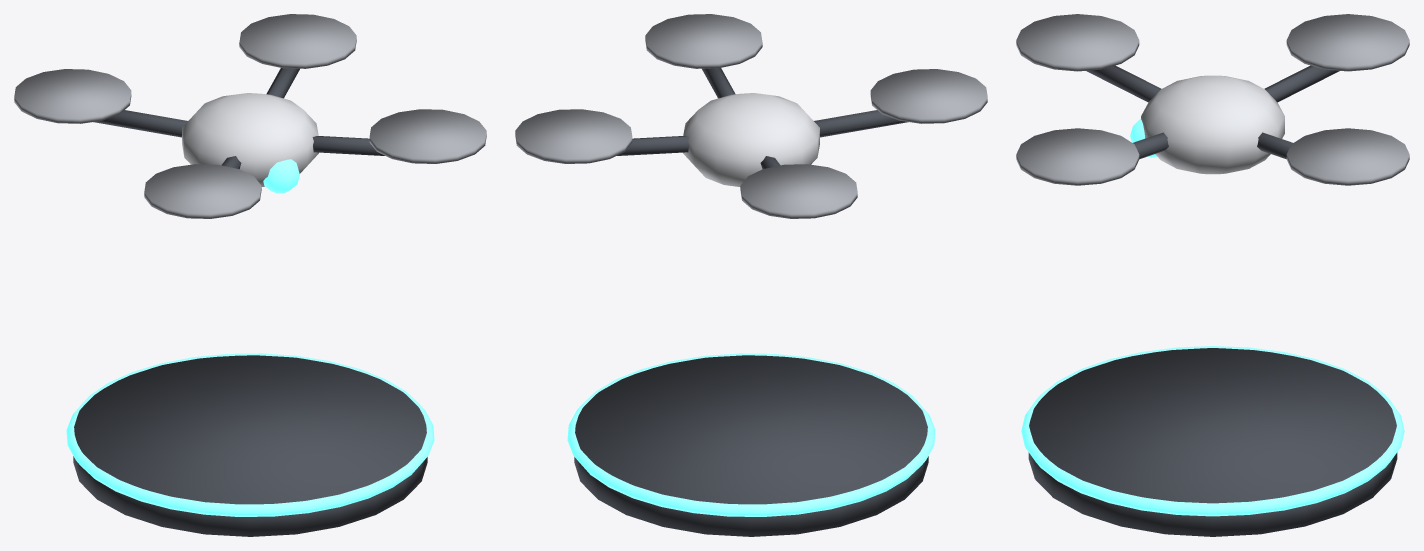
Rendered from drone_dock_quad.glb.
The picture shows the model from 3 angles, left to right: view 1: azimuth 30°, elevation 25°; view 2: azimuth 150°, elevation 25°; view 3: azimuth 270°, elevation 25°; orthographic projection. The views are drawn at different scales.
Parts seen in each view (by area): view 1: GD_drone_dock_quad__m0, GD_drone_dock_quad__m2, GD_drone_dock_quad__m4, GD_drone_dock_quad__m1; view 2: GD_drone_dock_quad__m0, GD_drone_dock_quad__m2, GD_drone_dock_quad__m4, GD_drone_dock_quad__m1; view 3: GD_drone_dock_quad__m0, GD_drone_dock_quad__m2, GD_drone_dock_quad__m4, GD_drone_dock_quad__m1.
Part boxes in pixels (bbox=[...]): GD_drone_dock_quad__m0: bbox=[73, 68, 427, 536]; GD_drone_dock_quad__m2: bbox=[14, 14, 486, 218]; GD_drone_dock_quad__m4: bbox=[182, 93, 318, 186]; GD_drone_dock_quad__m1: bbox=[66, 159, 434, 516]; GD_drone_dock_quad__m0: bbox=[574, 68, 928, 536]; GD_drone_dock_quad__m2: bbox=[515, 14, 987, 218]; GD_drone_dock_quad__m4: bbox=[683, 93, 819, 186]; GD_drone_dock_quad__m1: bbox=[567, 353, 935, 516]; GD_drone_dock_quad__m0: bbox=[1028, 65, 1397, 536]; GD_drone_dock_quad__m2: bbox=[1016, 14, 1409, 185]; GD_drone_dock_quad__m4: bbox=[1141, 75, 1284, 174]; GD_drone_dock_quad__m1: bbox=[1021, 119, 1404, 516].
Bounding box in the file's own units: 0.64 × 0.672 × 0.64.
